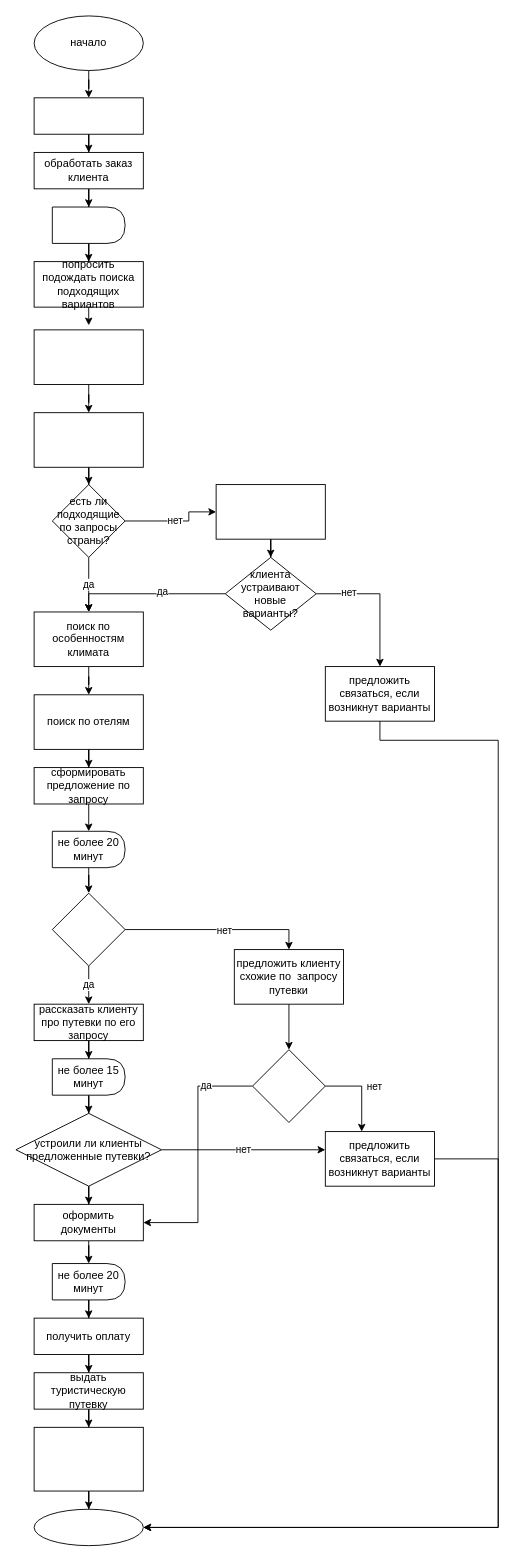
Image size: 521x1562. Some labels were removed from this diagram. The box of each missing label's shape, as (x1, y1, x2, y2) in pixels:
вбить в базу данных параметры по соответствующим пожеланиям клиента: (33, 329, 143, 384)
добавить данные клиента в базу данных для последующих предложений: (33, 1426, 143, 1491)
конец: (33, 1508, 143, 1546)
не более 5 минут: (51, 206, 125, 243)
подходящие варианты нашлись?: (51, 892, 125, 966)
поиск по стране проживания: (33, 412, 143, 467)
понравились ли клиенту другие варианты?: (252, 1049, 325, 1122)
предложить клиенту другие варианты: (215, 484, 325, 539)
принять запрос клиента: (33, 97, 143, 134)
